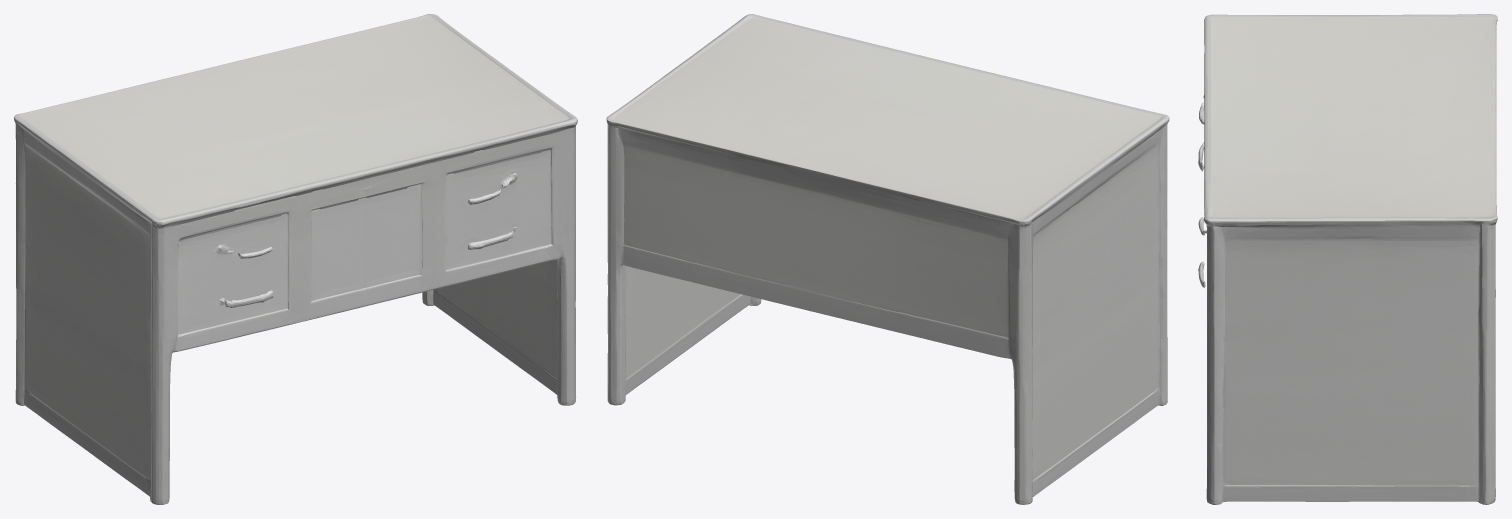
The model's file is masa.glb.
3 renders of one model, left to right at view 1: azimuth 30°, elevation 25°; view 2: azimuth 150°, elevation 25°; view 3: azimuth 270°, elevation 25°, orthographic.
Size of the model in its own units: 100 by 64.42 by 61.22.
Materials: 1 (1 with a texture image).
